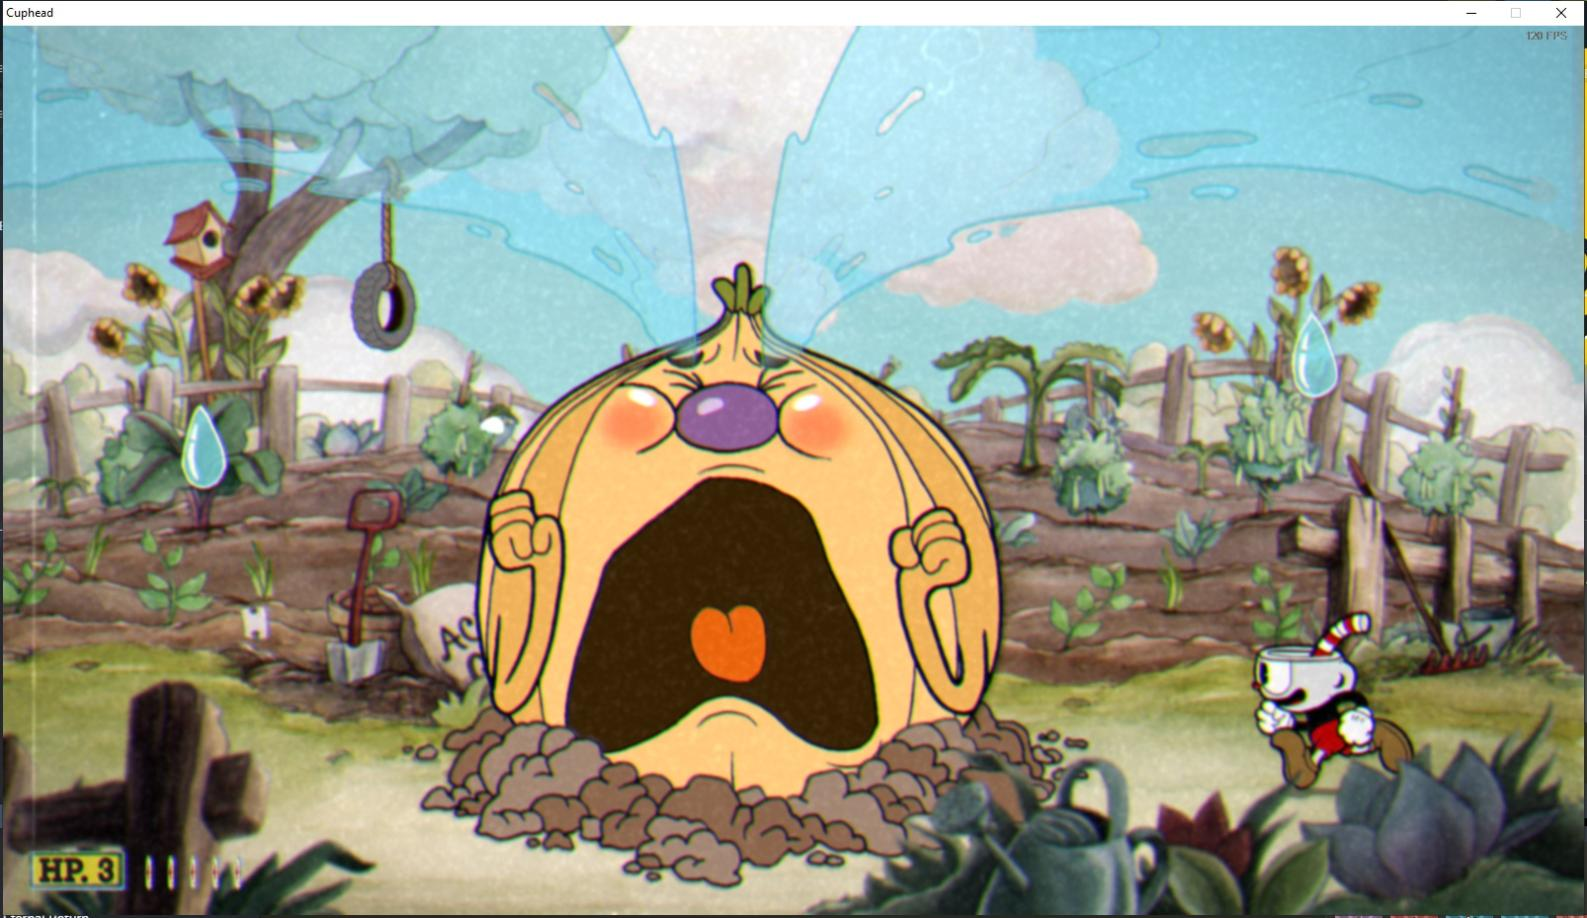hp3: (90, 852, 124, 889)
onion_boss: (469, 258, 1009, 830)
player: (1244, 608, 1427, 792)
rain: (1280, 306, 1347, 411), (174, 394, 237, 501)
